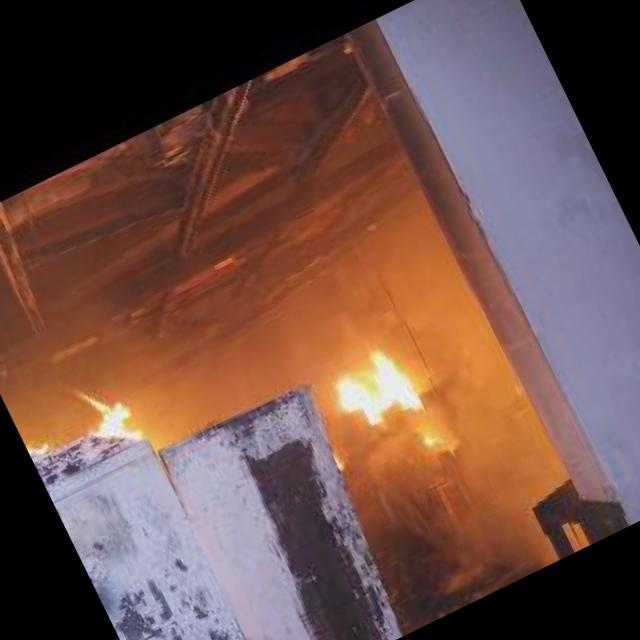fire: (321, 336, 422, 436), (59, 365, 146, 460), (20, 425, 49, 456), (420, 426, 442, 446), (334, 450, 346, 467)
